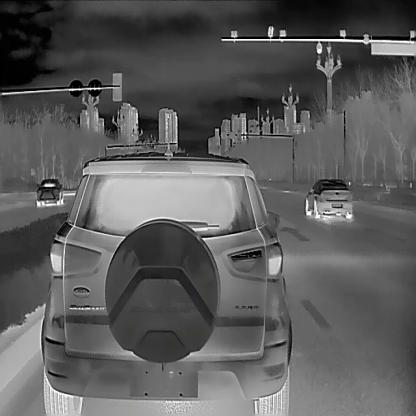car: (41, 151, 292, 415), (304, 177, 352, 218), (34, 177, 64, 205)
